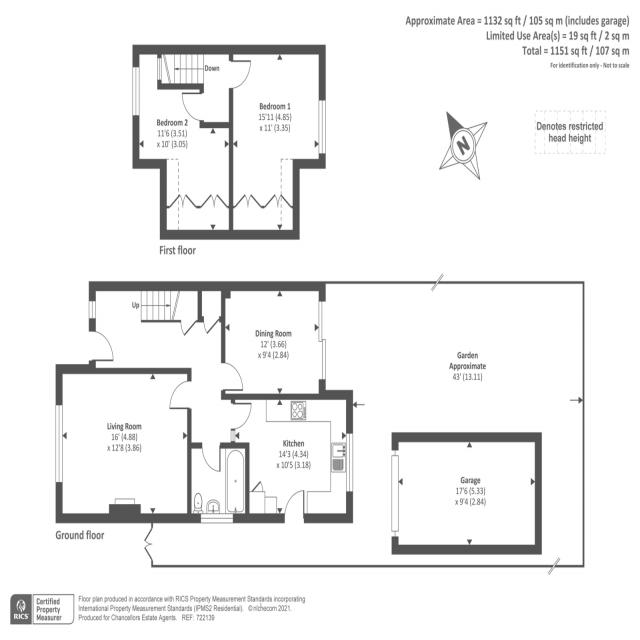DOOR: (89, 330, 114, 362), (228, 59, 252, 92), (284, 488, 305, 524), (169, 380, 192, 410), (221, 362, 244, 392), (181, 92, 204, 121), (201, 442, 221, 473), (231, 402, 252, 430)
ROOM: (55, 364, 191, 523), (132, 44, 233, 240), (228, 44, 326, 240), (230, 390, 353, 523), (221, 280, 326, 400)
WINDOW: (55, 404, 64, 483), (346, 433, 354, 492), (318, 99, 326, 155), (317, 299, 326, 343), (132, 67, 140, 116), (201, 513, 234, 524), (89, 300, 96, 320), (157, 57, 162, 81), (230, 430, 236, 443)
